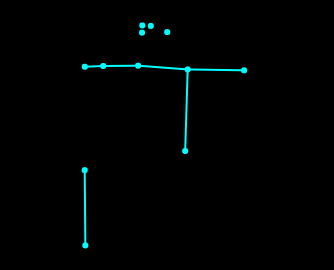warrior_2: (68, 18, 250, 253)
